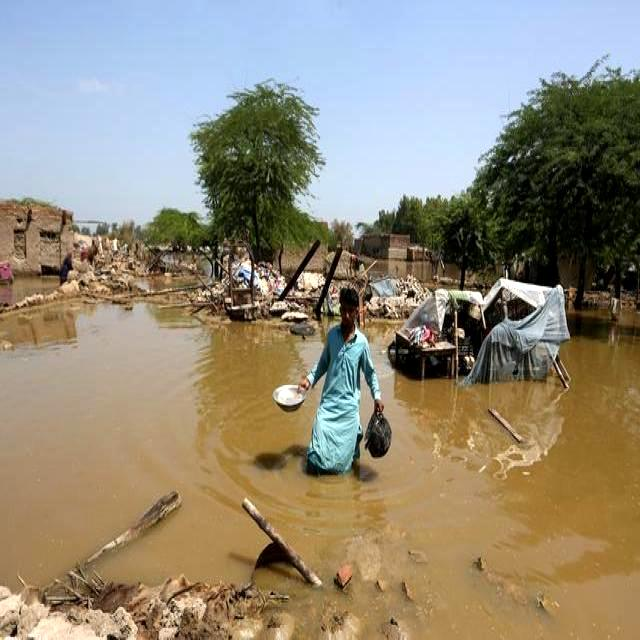civilian: (296, 285, 384, 482)
